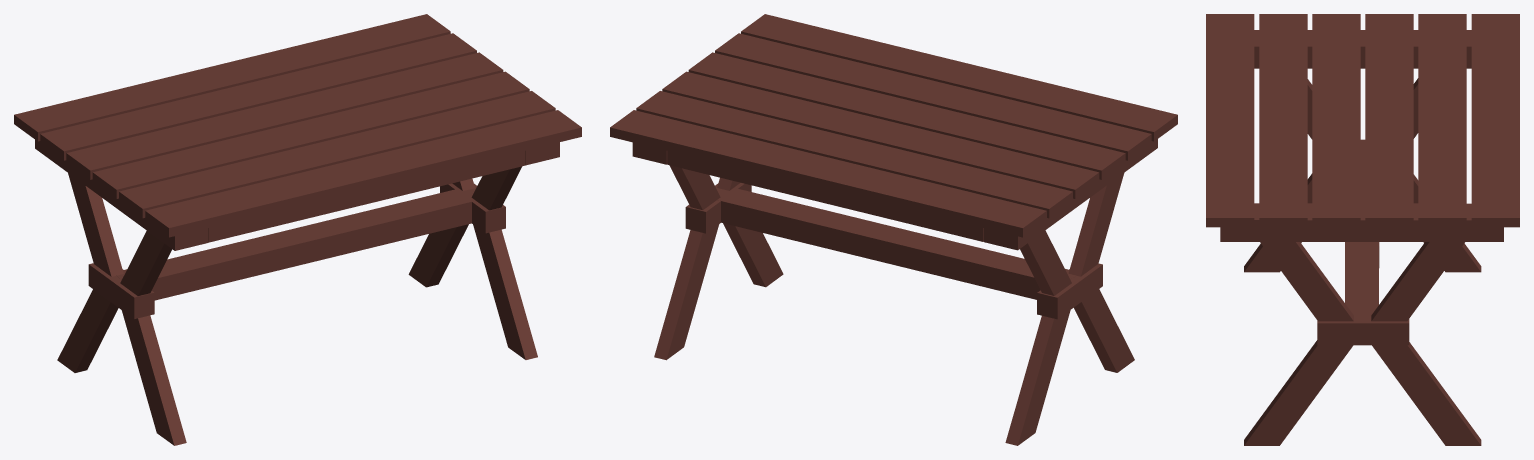
File: table_cross.fbx
3 renders of one model, left to right at view 1: azimuth 30°, elevation 25°; view 2: azimuth 150°, elevation 25°; view 3: azimuth 270°, elevation 25°, orthographic.
Visible parts, largest first — view 1: table_cross; view 2: table_cross; view 3: table_cross.
Part boxes in pixels (x1,y1,x2,y2): table_cross: (14,14,581,445); table_cross: (610,14,1177,445); table_cross: (1206,14,1519,445).
Bounding box in the file's own units: 200 × 110 × 130.
